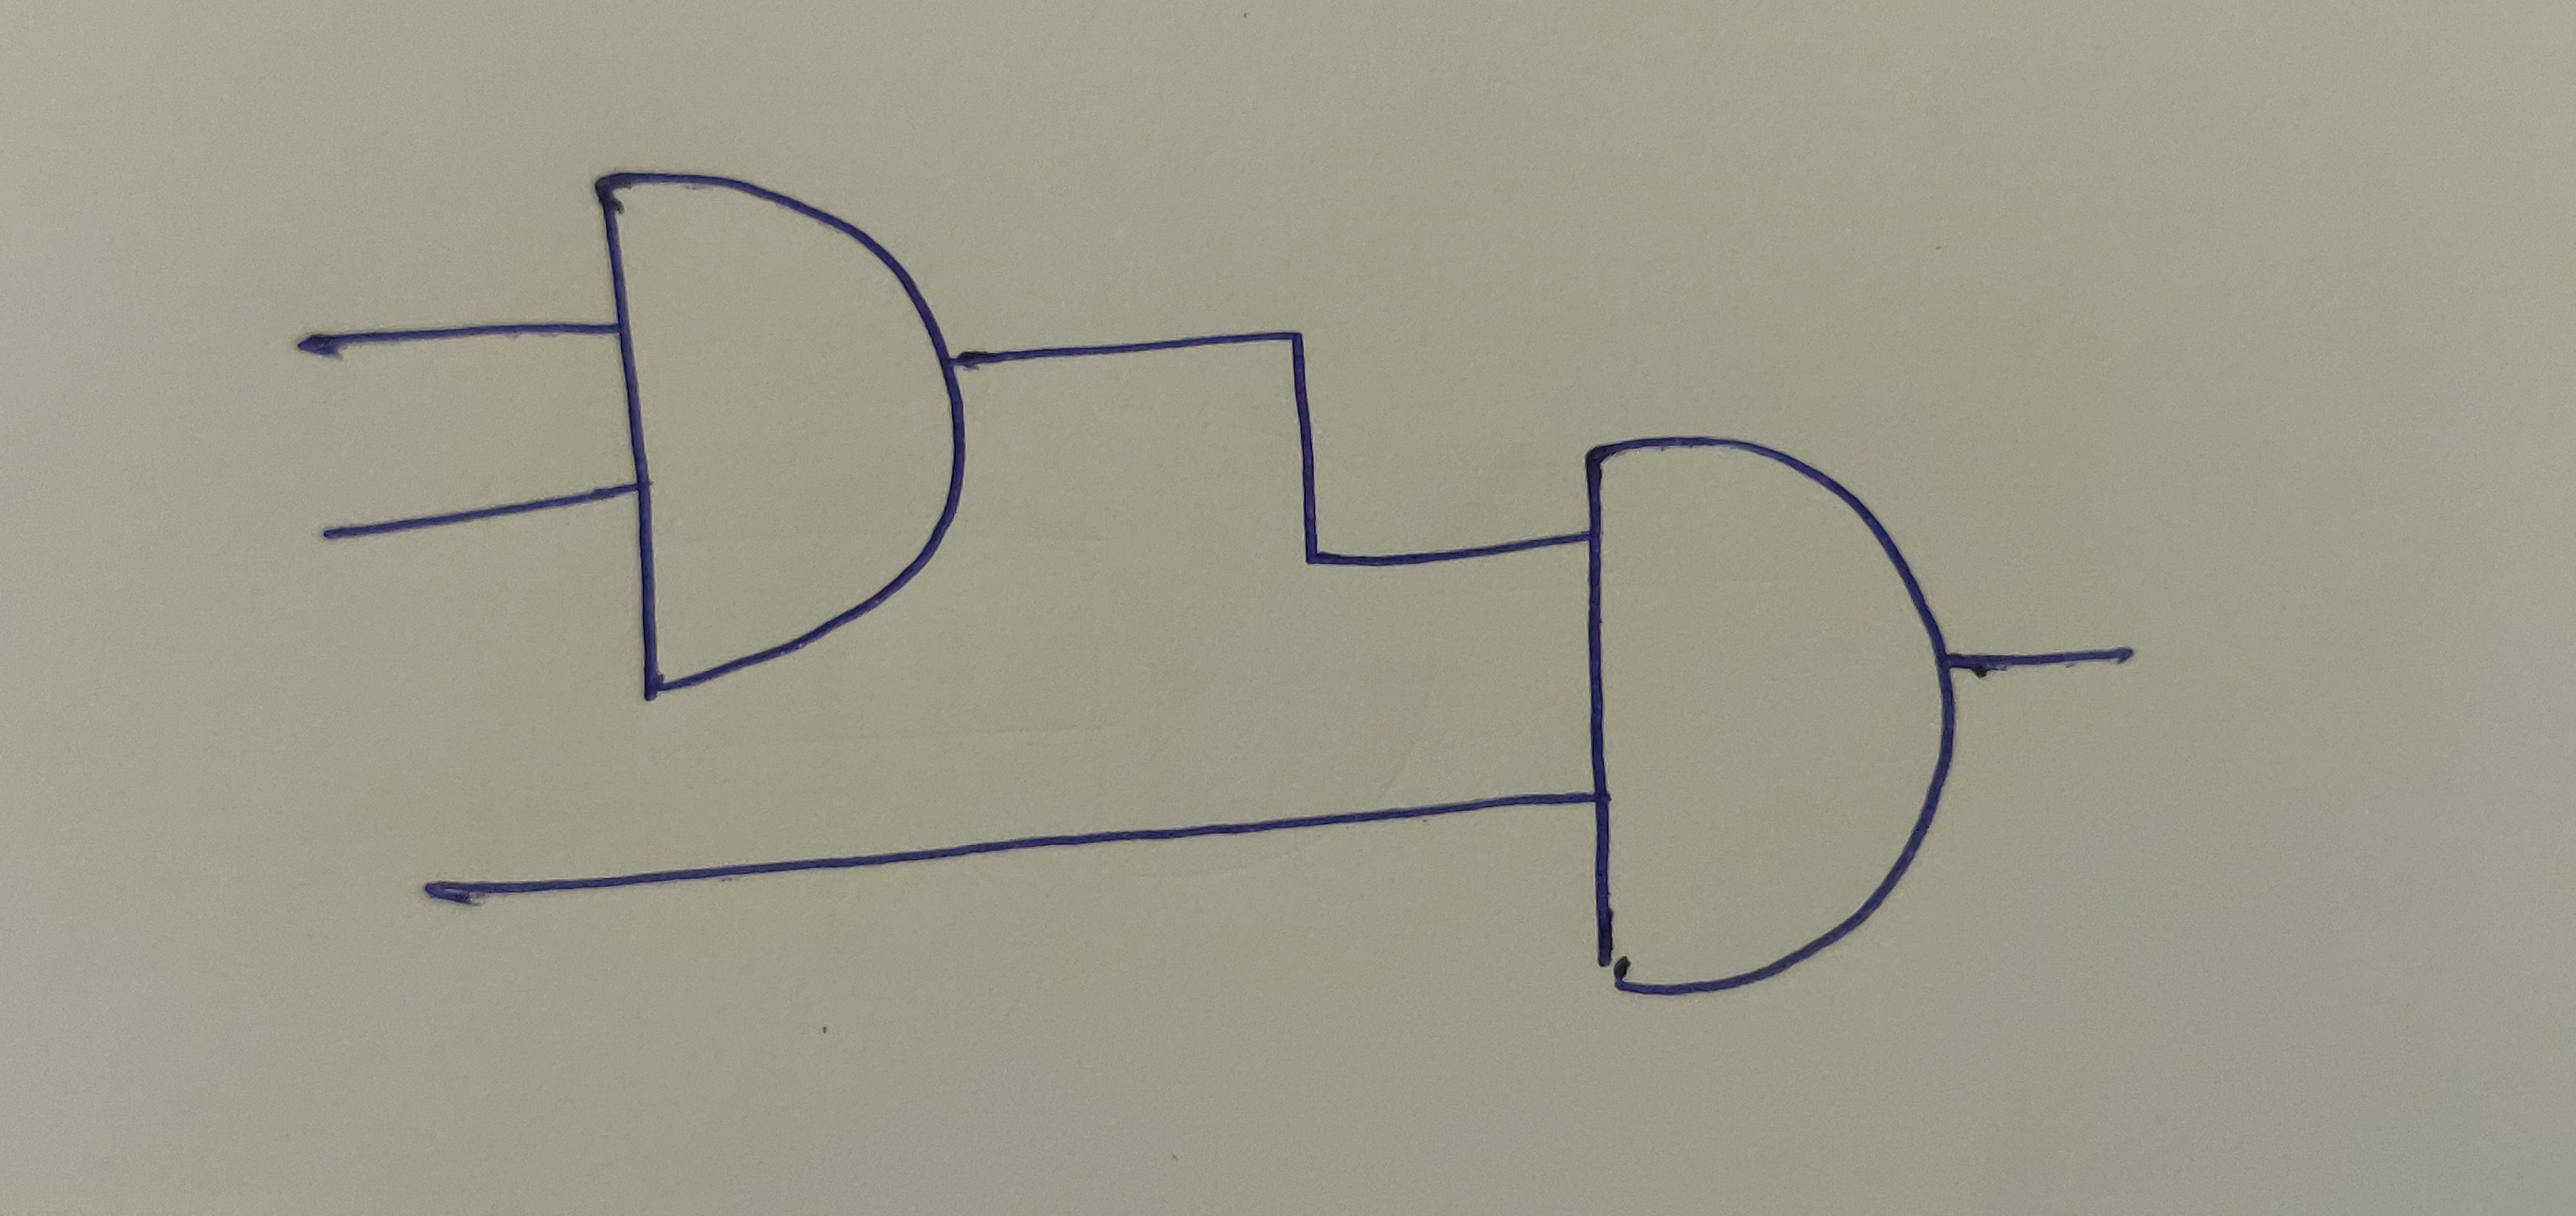and: (1575, 432, 1952, 994), (590, 166, 973, 693)
